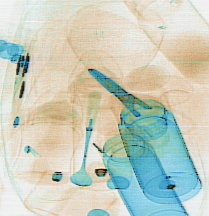scissors: (86, 65, 151, 115)
